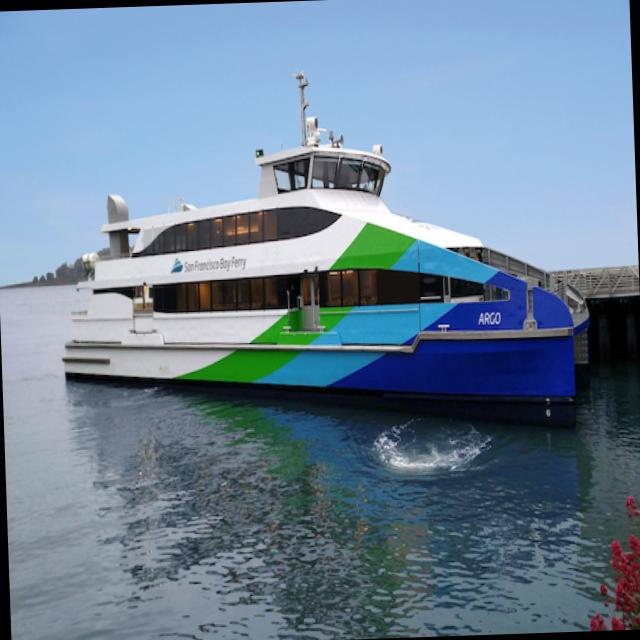Passenger: (62, 72, 588, 424)
